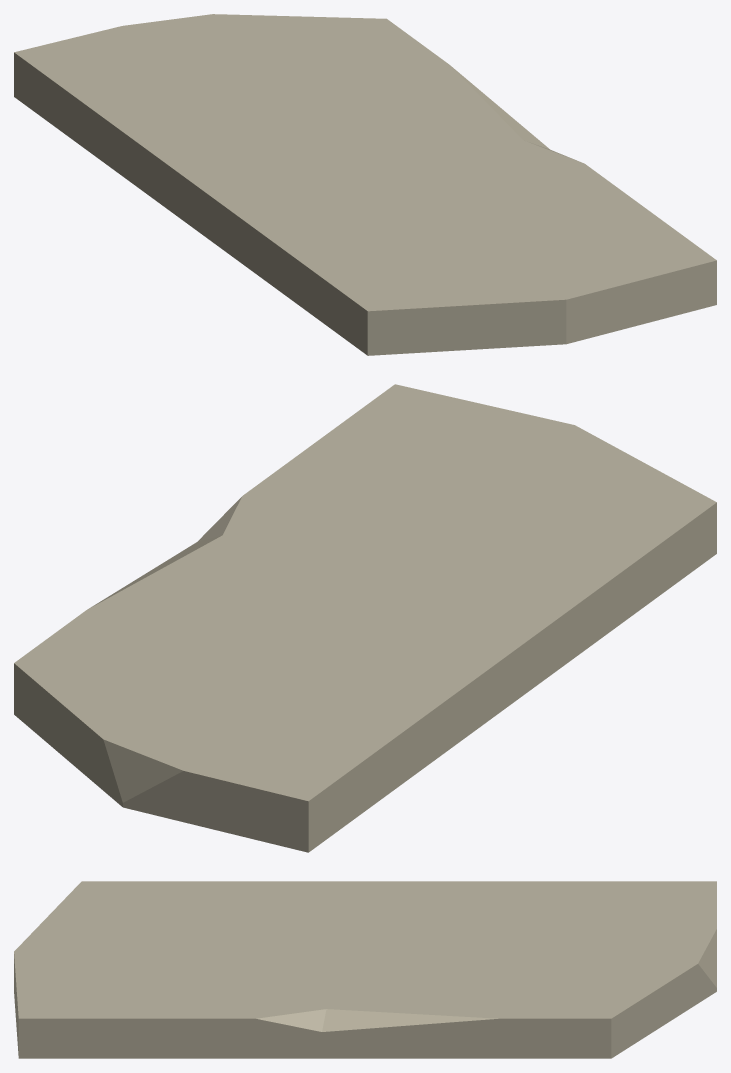
File: stair_small_2.fbx
The picture shows the model from 3 angles, top to bottom: view 1: azimuth 30°, elevation 25°; view 2: azimuth 150°, elevation 25°; view 3: azimuth 270°, elevation 25°; orthographic projection. The views are drawn at different scales.
Visible parts, largest first — view 1: stair_small_2; view 2: stair_small_2; view 3: stair_small_2.
Boxes of the visible parts, <box> form: stair_small_2: <box>14,14,716,355</box>; stair_small_2: <box>14,384,716,852</box>; stair_small_2: <box>14,881,716,1058</box>.
Bounding box in the file's own units: 2.02 × 0.2712 × 4.32.
